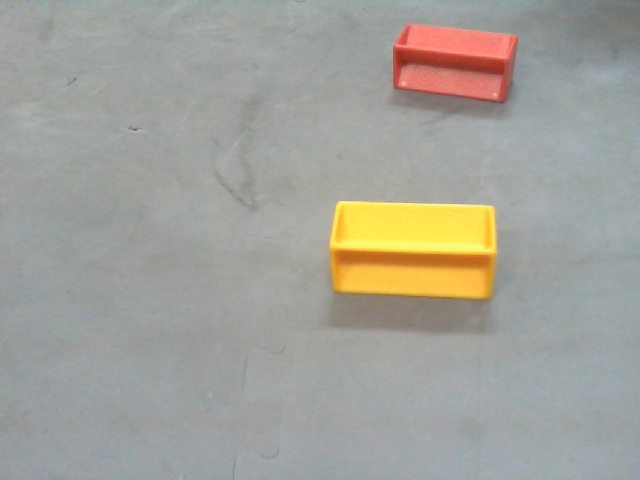RedSample: (391, 22, 517, 106)
YellowSample: (328, 201, 496, 300)
